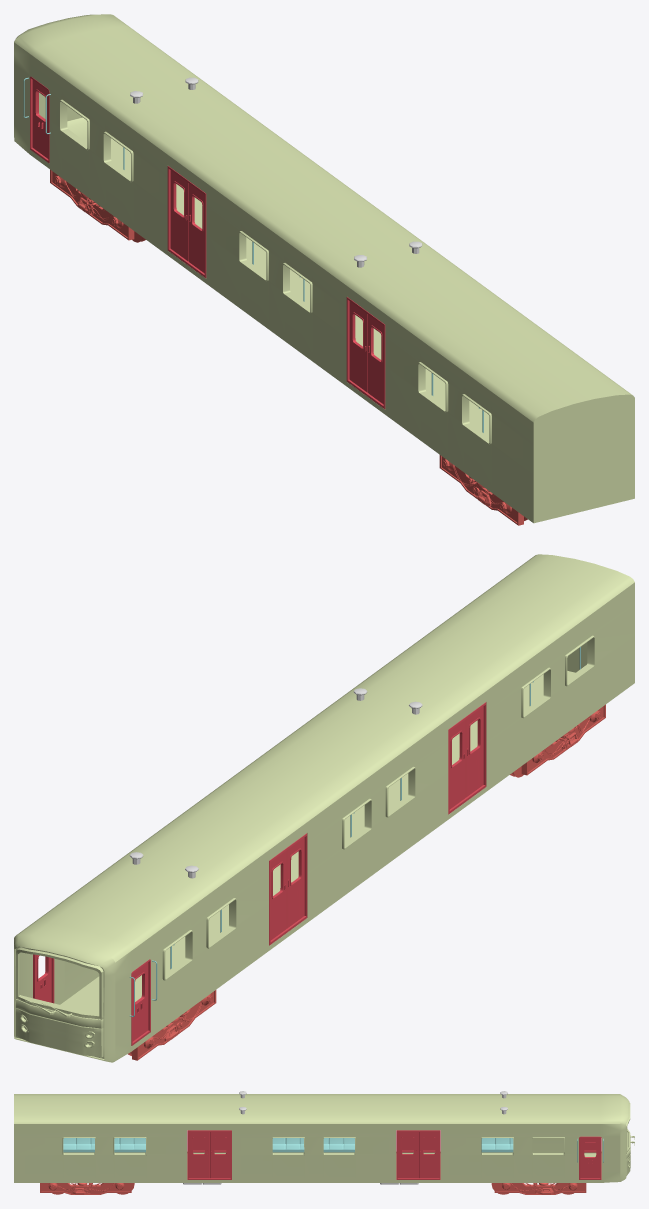
The model's file is FinalMetro.fbx.
3 renders of one model, top to bottom at view 1: azimuth 30°, elevation 25°; view 2: azimuth 150°, elevation 25°; view 3: azimuth 270°, elevation 25°, orthographic. The views are drawn at different scales.
Parts seen in each view (by area): view 1: MetroFINALE; view 2: MetroFINALE; view 3: MetroFINALE.
Boxes of the visible parts, bbox=[...] form: MetroFINALE: bbox=[14, 14, 634, 525]; MetroFINALE: bbox=[14, 554, 634, 1062]; MetroFINALE: bbox=[14, 1091, 634, 1194].
Bounding box in the file's own units: 634 × 799 × 5254.
